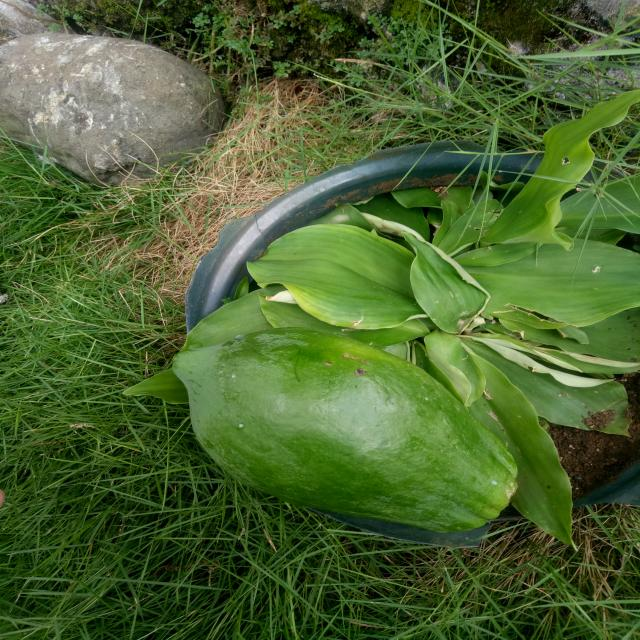Pepaya unrippen: (173, 328, 522, 534)
